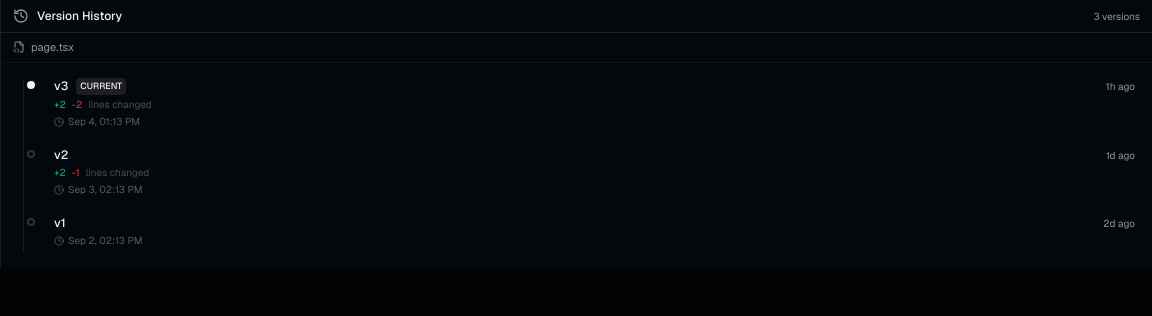
it: VersionHistoryPanel › shows restore button for non-current versions
Click the text "v2" at [61, 155], box [54,147,68,163]
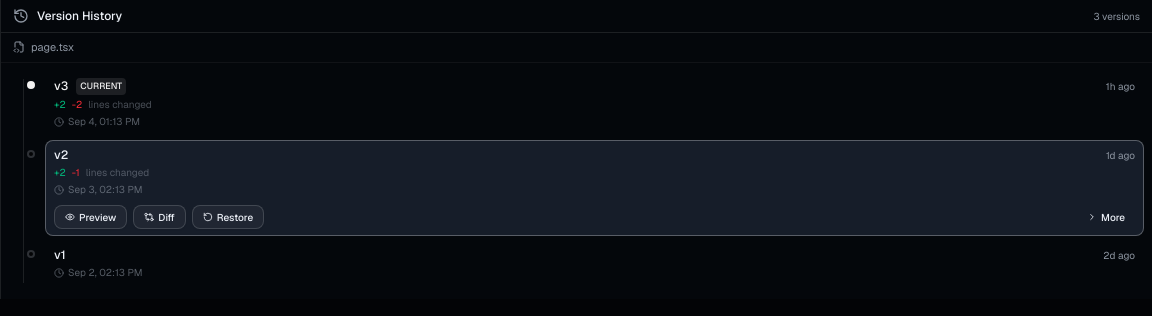
Now the button "Restore" is shown, box [192,205,264,229]
